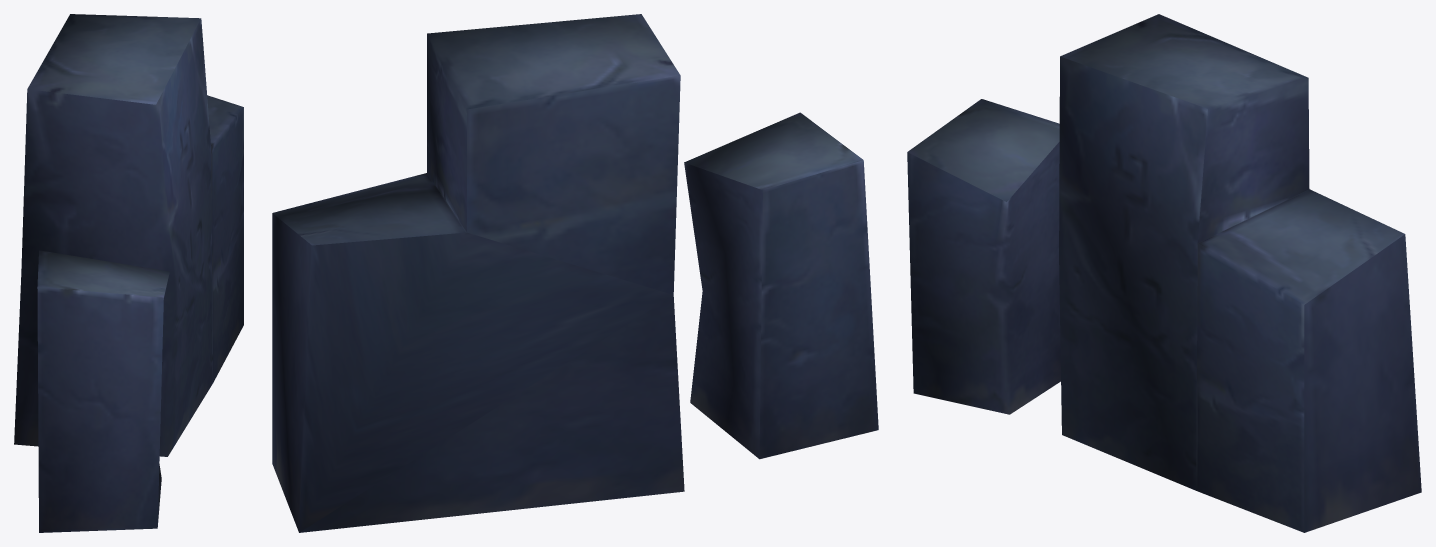
The model's file is Area_10_7.fbx.
The picture shows the model from 3 angles, left to right: view 1: azimuth 30°, elevation 25°; view 2: azimuth 150°, elevation 25°; view 3: azimuth 270°, elevation 25°; orthographic projection. The views are drawn at different scales.
Visible parts, largest first — view 1: Area_10_7; view 2: Area_10_7; view 3: Area_10_7.
Part boxes in pixels (box(x1,y1,x2,y2)): Area_10_7: box(14, 14, 243, 532); Area_10_7: box(272, 14, 878, 532); Area_10_7: box(907, 14, 1421, 532).
Bounding box in the file's own units: 1031 × 974 × 1198.
